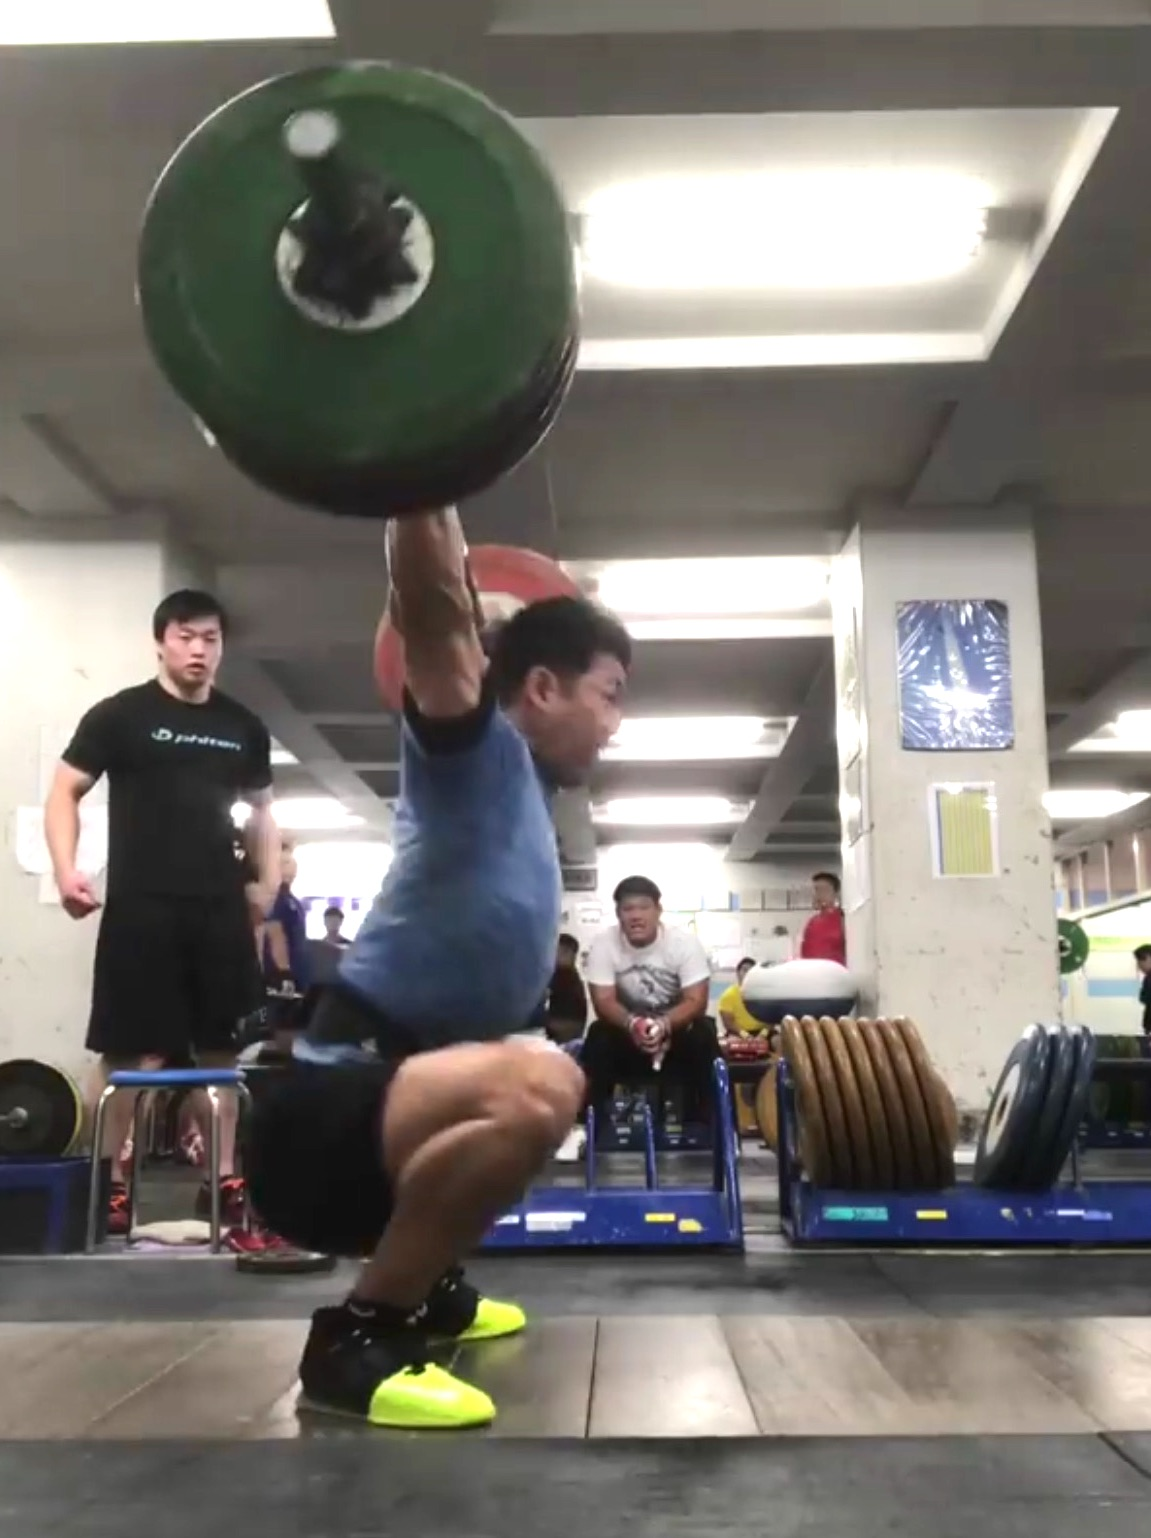barbell: (122, 48, 588, 524), (1, 1056, 82, 1164)
